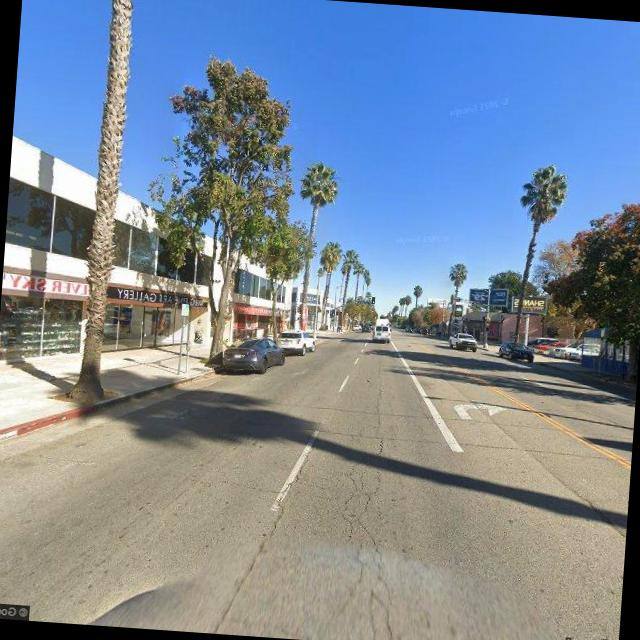crack: (322, 424, 415, 640)
pothole: (218, 420, 320, 639)
